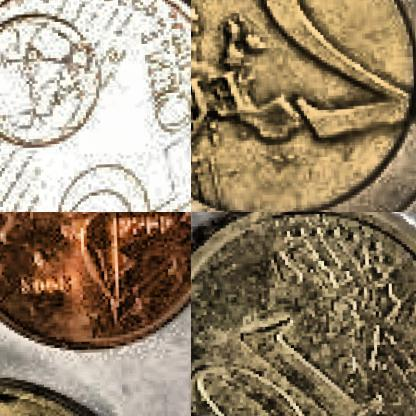coin: (191, 0, 415, 211), (191, 212, 415, 415), (0, 0, 190, 211), (0, 212, 190, 360)
